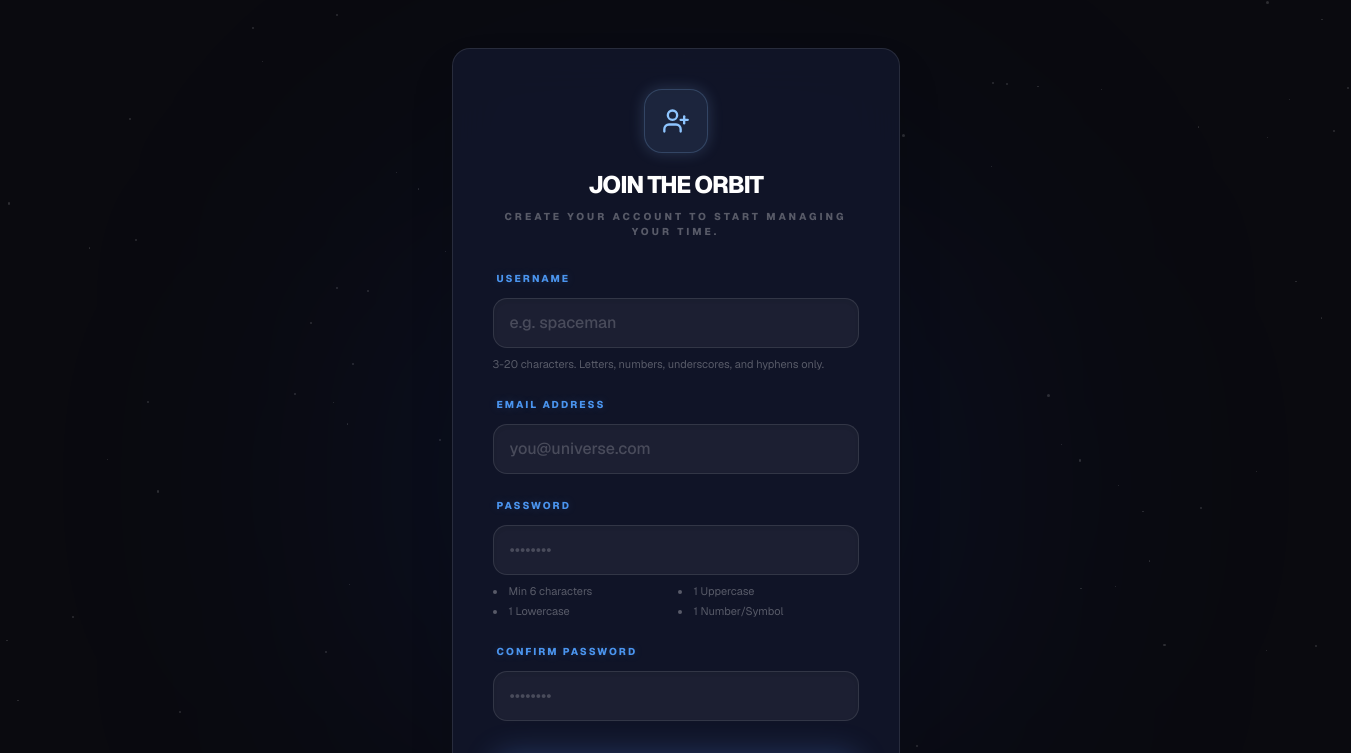
Test: RegisterPage Component › shows error if auto-login fails
The width and height of the screenshot is (1366, 753).
Type "testuser" into the field with placeholder "e.g. spaceman" at (676, 323), box [492,298,858,348]
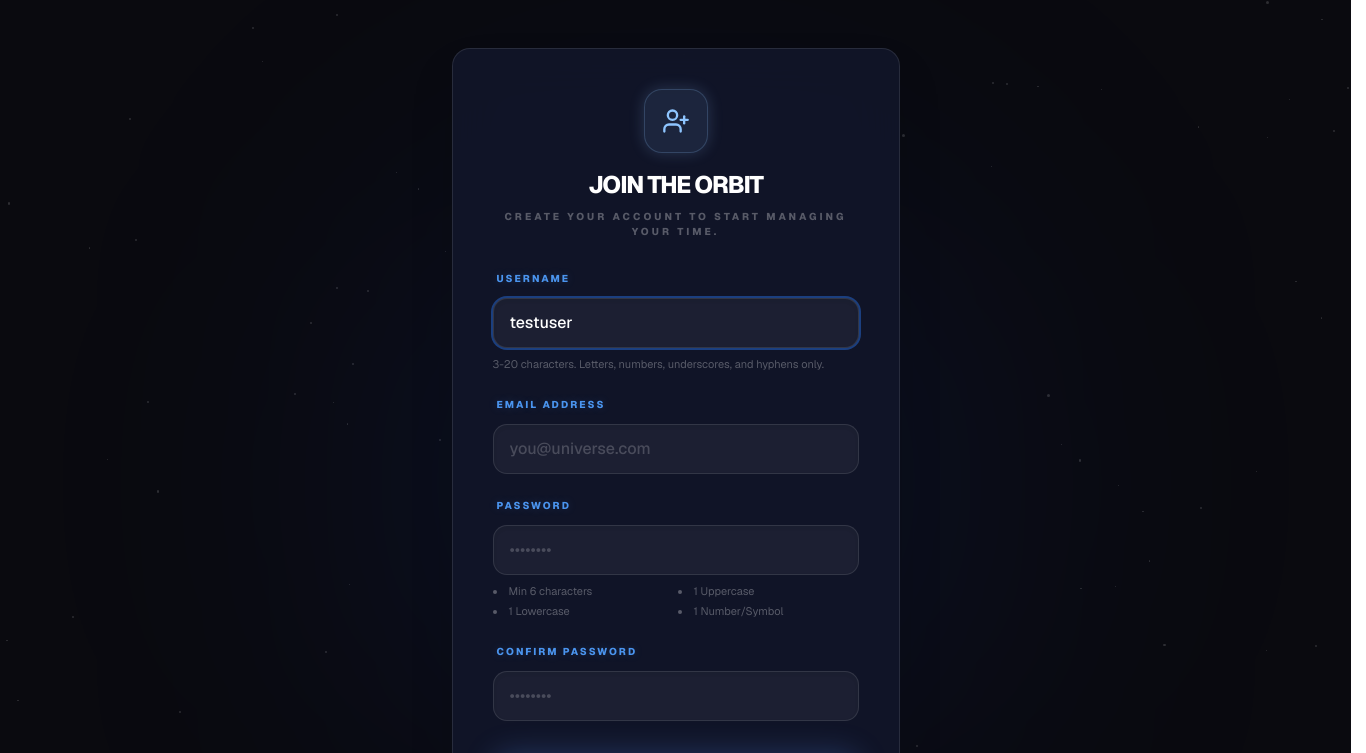
Type "test@example.com" into the field with placeholder "you@universe.com" at (676, 448), box [492,424,858,474]
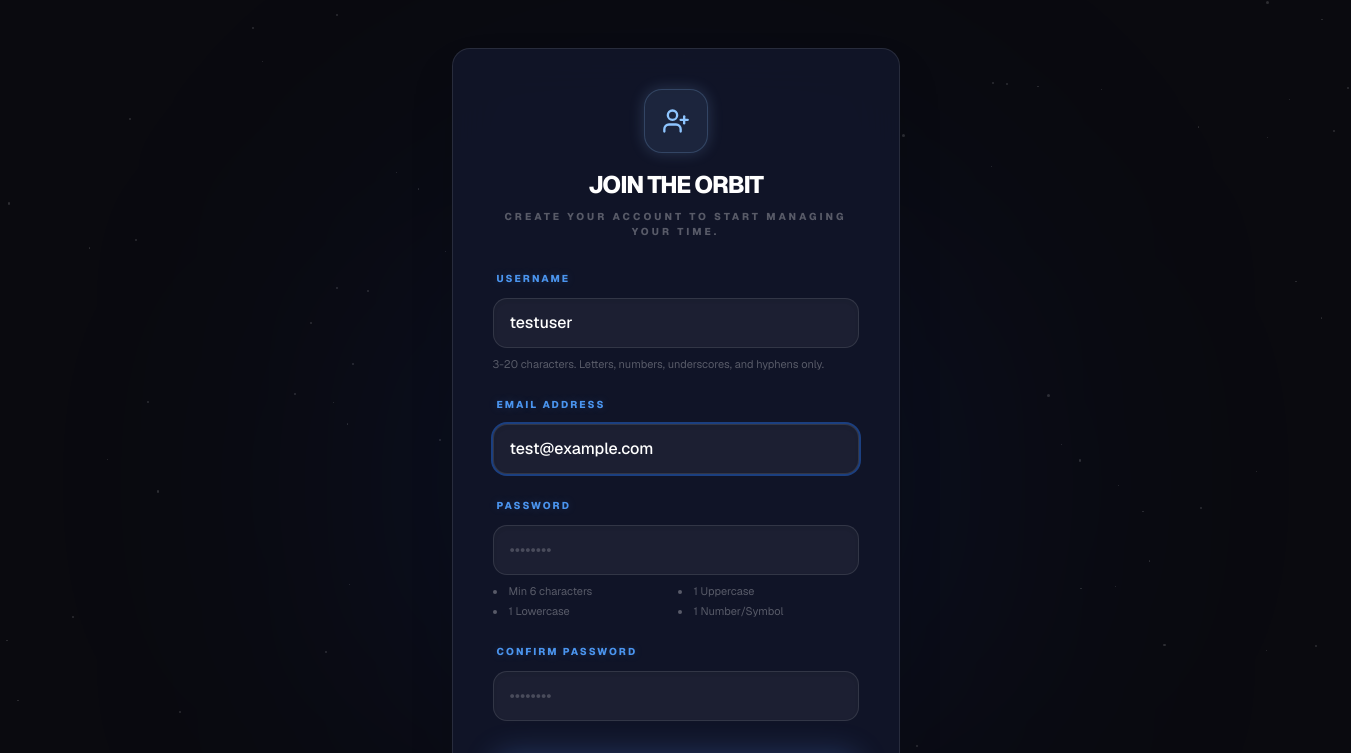
Type "Password123" into the 1st password field with placeholder "••••••••" at (676, 550), box [492,524,858,574]
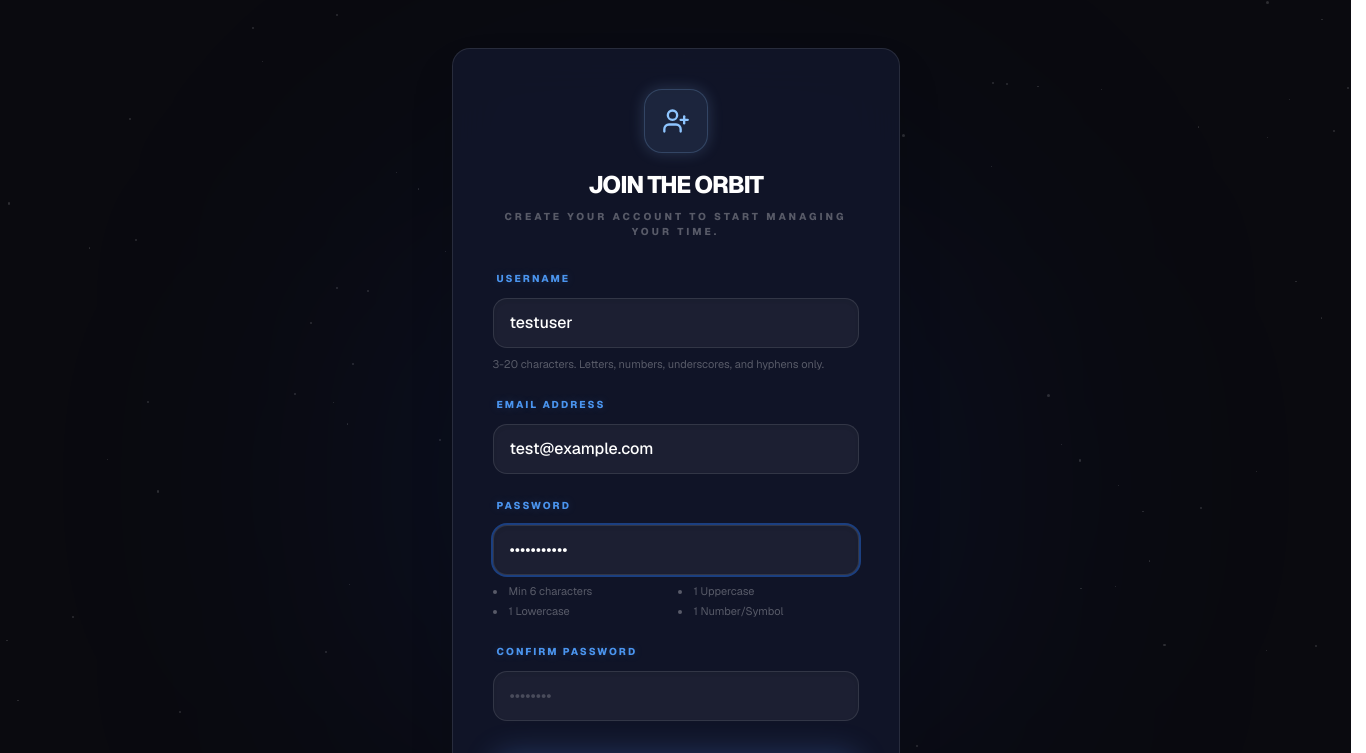
Type "Password123" into the password field with placeholder "••••••••" at (676, 696), box [492,670,858,720]
(page scrolled)
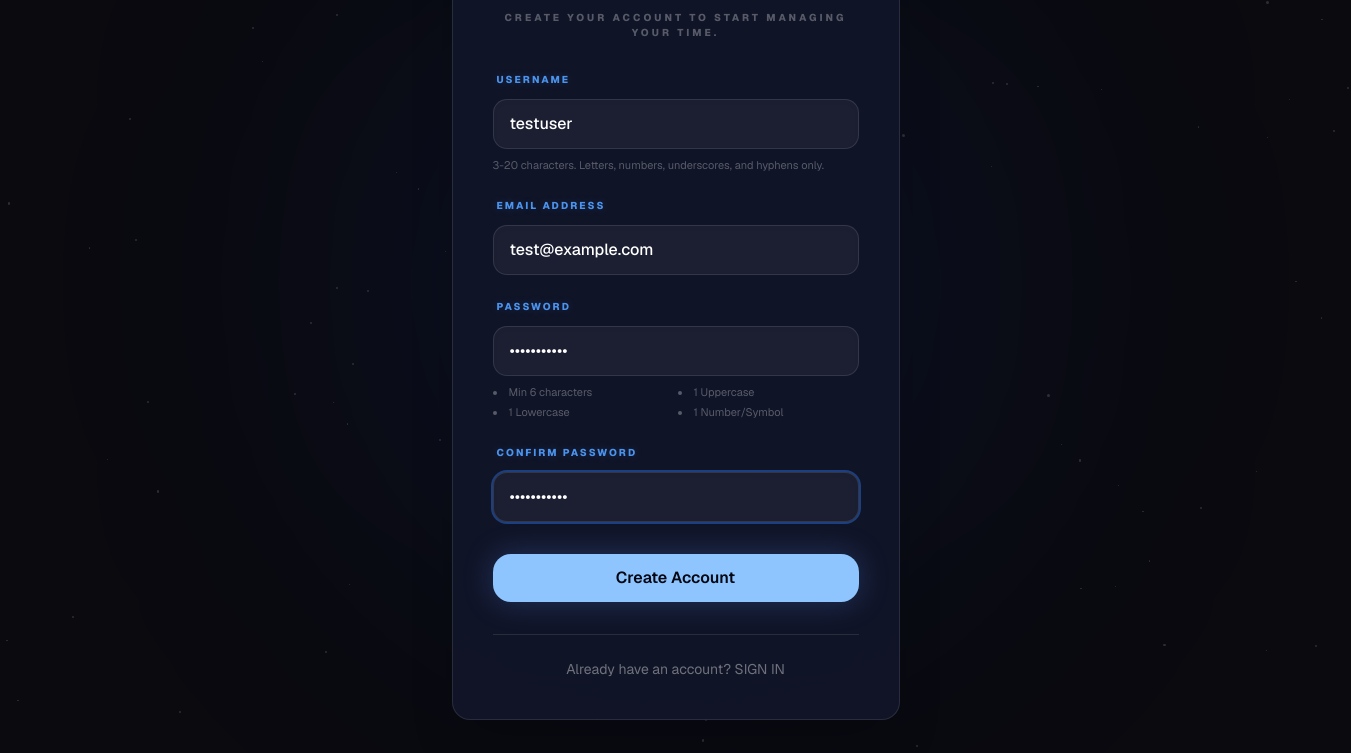
Click the button "Create Account" at (676, 578), box [492,554,858,602]
(page scrolled)
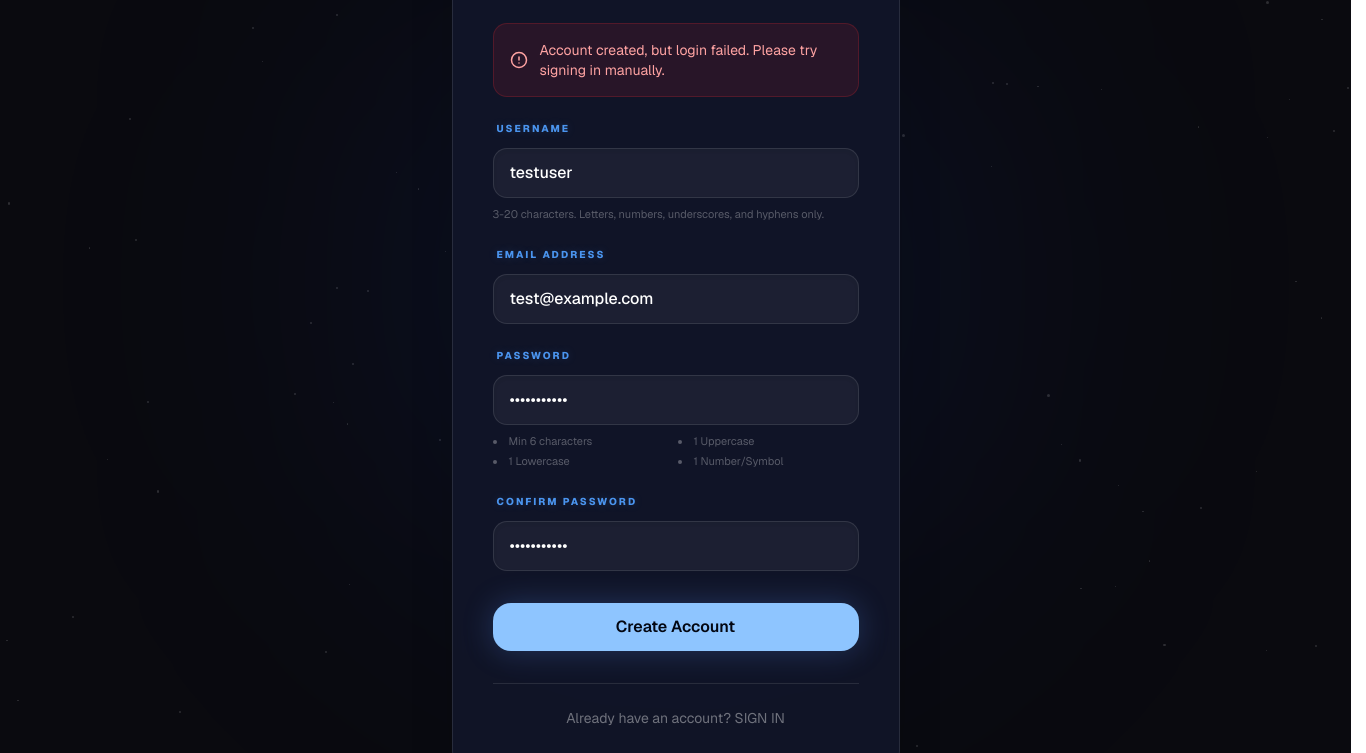
Result: the text "Account created, but login failed" is shown at [540,41,817,79]
